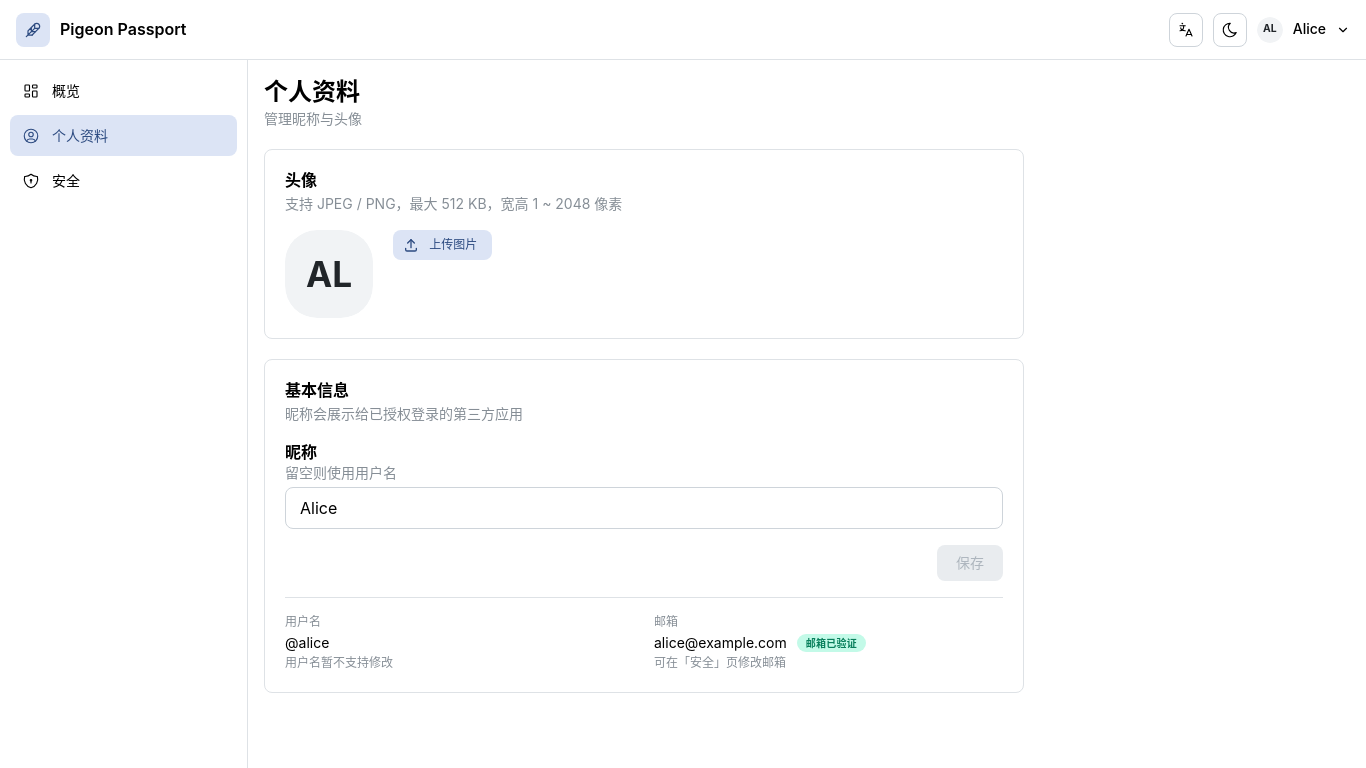
Scenario: ProfilePage display name › saves a new display name
In the field labelled "昵称": (644, 508) top-left (285, 487), bottom-right (1003, 529), type "Alice Wang"
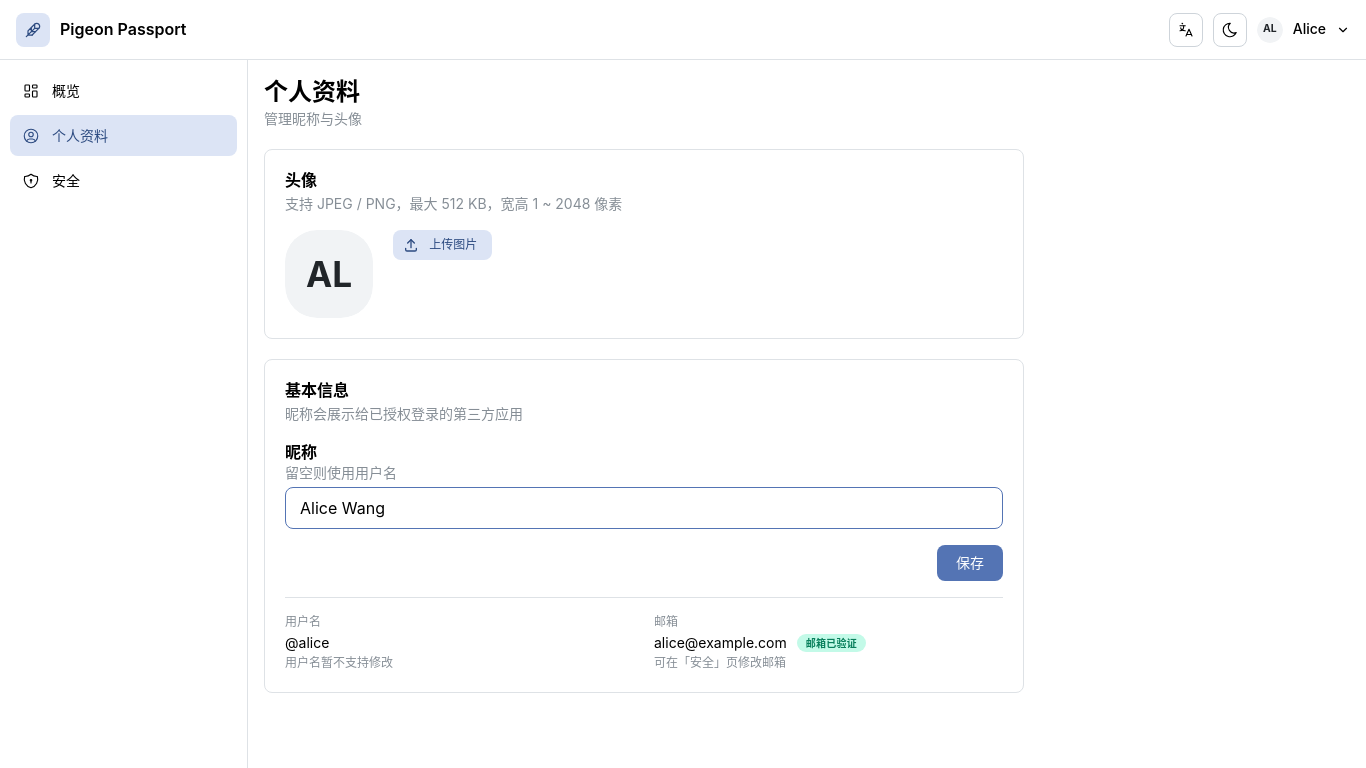
Click the button "保存": (970, 563) top-left (937, 545), bottom-right (1003, 581)
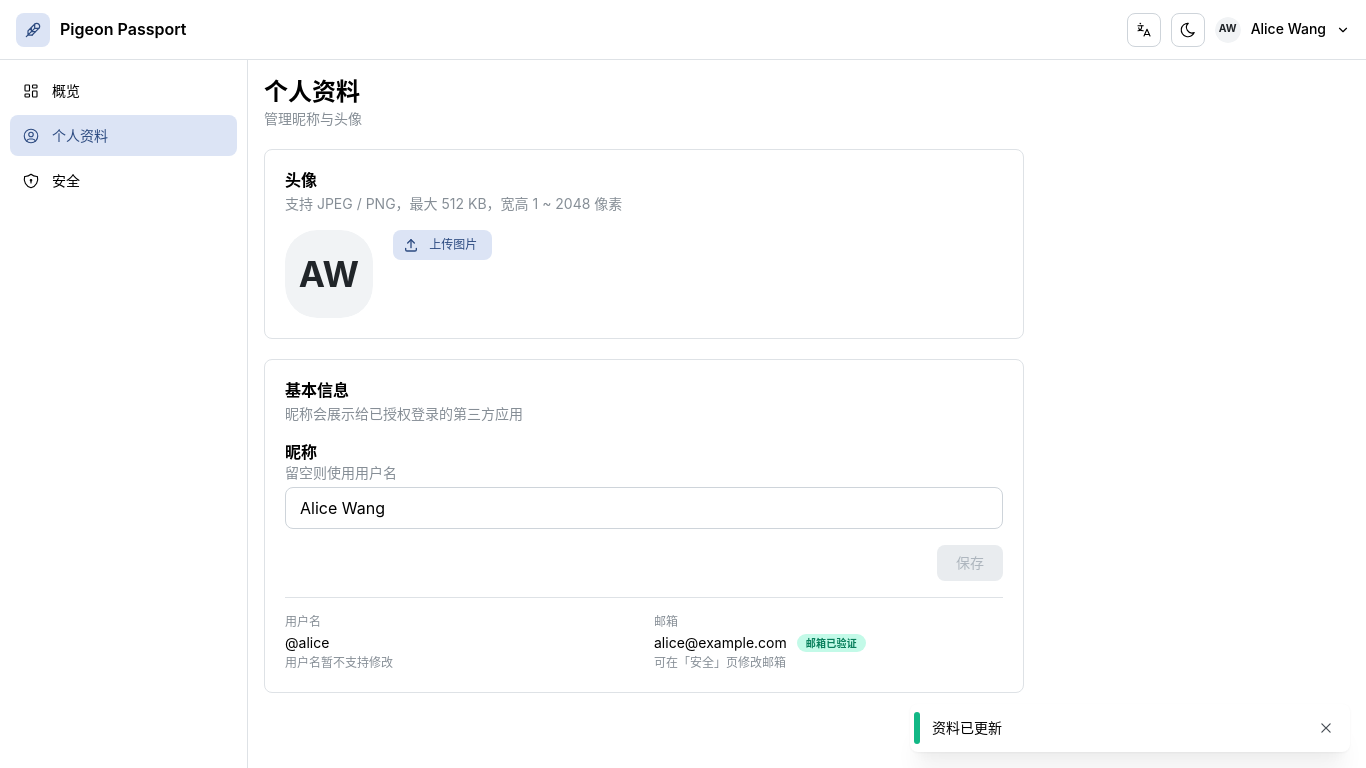
Check: the text "Alice Wang" is shown, box top-left (1251, 19), bottom-right (1326, 40)
Check: the text "资料已更新" is shown, box top-left (932, 719), bottom-right (1002, 736)
